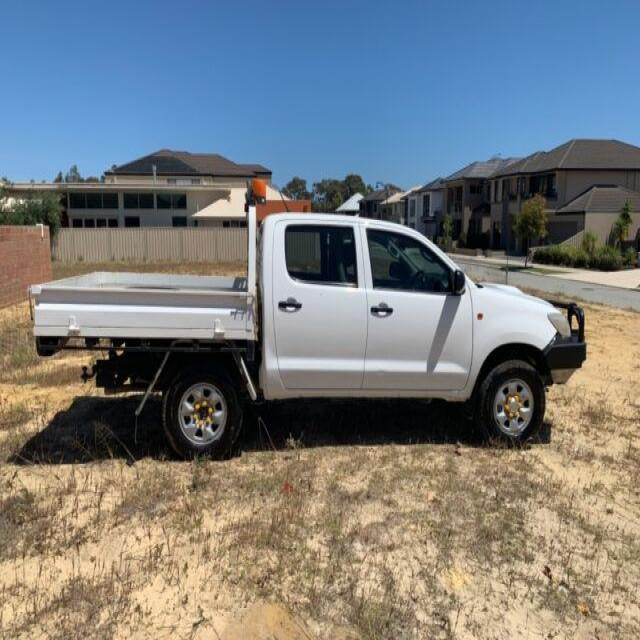light_vehicle: (35, 184, 601, 469)
